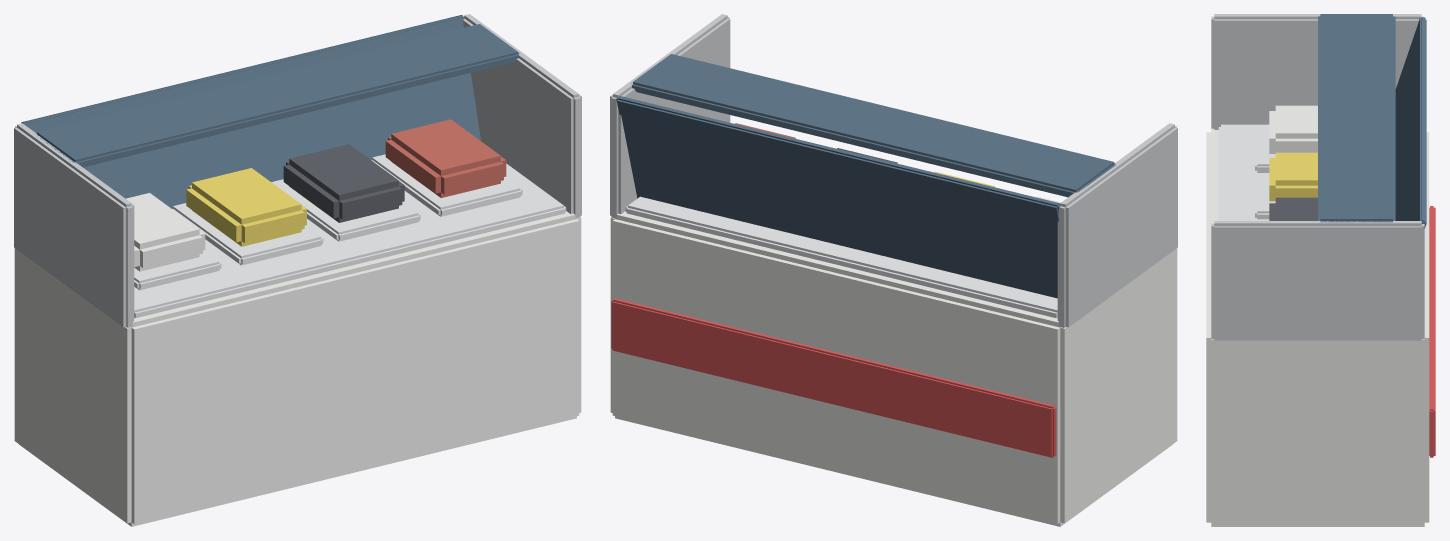
Rendered from Market_SarkuteriDolabi.fbx.
3 renders of one model, left to right at view 1: azimuth 30°, elevation 25°; view 2: azimuth 150°, elevation 25°; view 3: azimuth 270°, elevation 25°, orthographic. The views are drawn at different scales.
Visible parts, largest first — view 1: Market_SarkuteriDolabi; view 2: Market_SarkuteriDolabi; view 3: Market_SarkuteriDolabi.
Part boxes in pixels (x1=…): Market_SarkuteriDolabi: x1=14, y1=14, x2=581, y2=526; Market_SarkuteriDolabi: x1=610, y1=14, x2=1177, y2=526; Market_SarkuteriDolabi: x1=1206, y1=14, x2=1435, y2=526.
Size of the model in its own units: 2.07 by 1.4 by 0.945.
